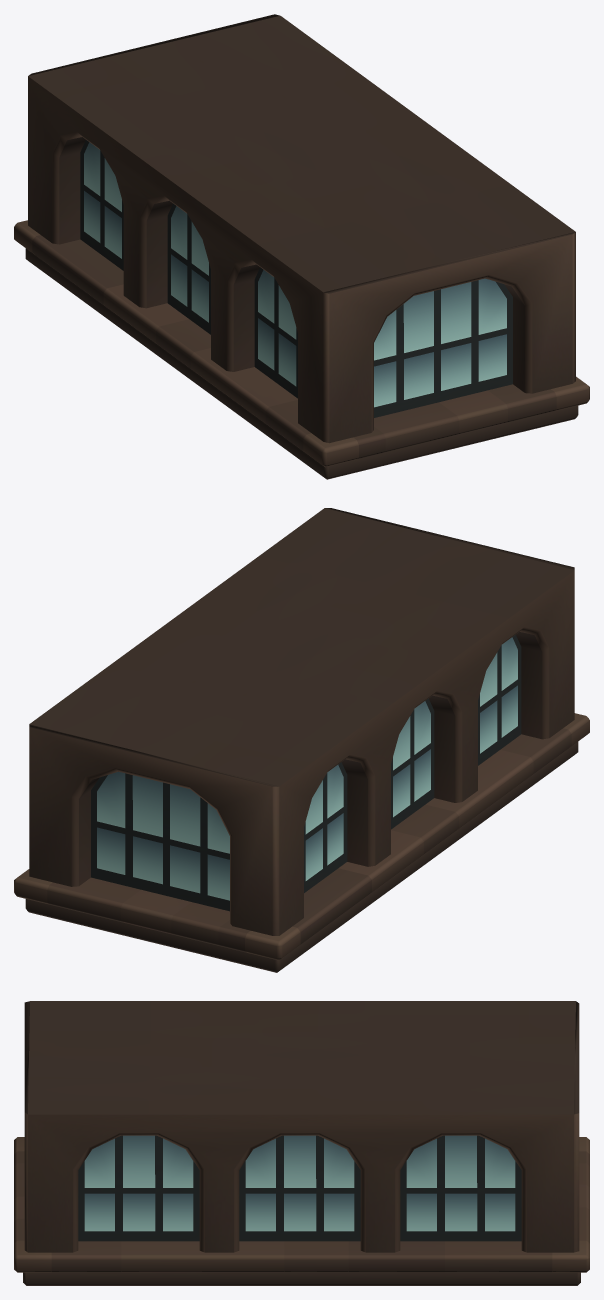
The model's file is office_building_type2_single_floor1_brown.fbx.
The picture shows the model from 3 angles, top to bottom: view 1: azimuth 30°, elevation 25°; view 2: azimuth 150°, elevation 25°; view 3: azimuth 270°, elevation 25°; orthographic projection. The views are drawn at different scales.
Visible parts, largest first — view 1: office_building_type2_single_floor1_brown; view 2: office_building_type2_single_floor1_brown; view 3: office_building_type2_single_floor1_brown.
Boxes of the visible parts, x1=… form: office_building_type2_single_floor1_brown: x1=14, y1=14, x2=589, y2=479; office_building_type2_single_floor1_brown: x1=14, y1=508, x2=589, y2=972; office_building_type2_single_floor1_brown: x1=14, y1=1001, x2=589, y2=1285.
Bounding box in the file's own units: 800 × 531 × 1610.
